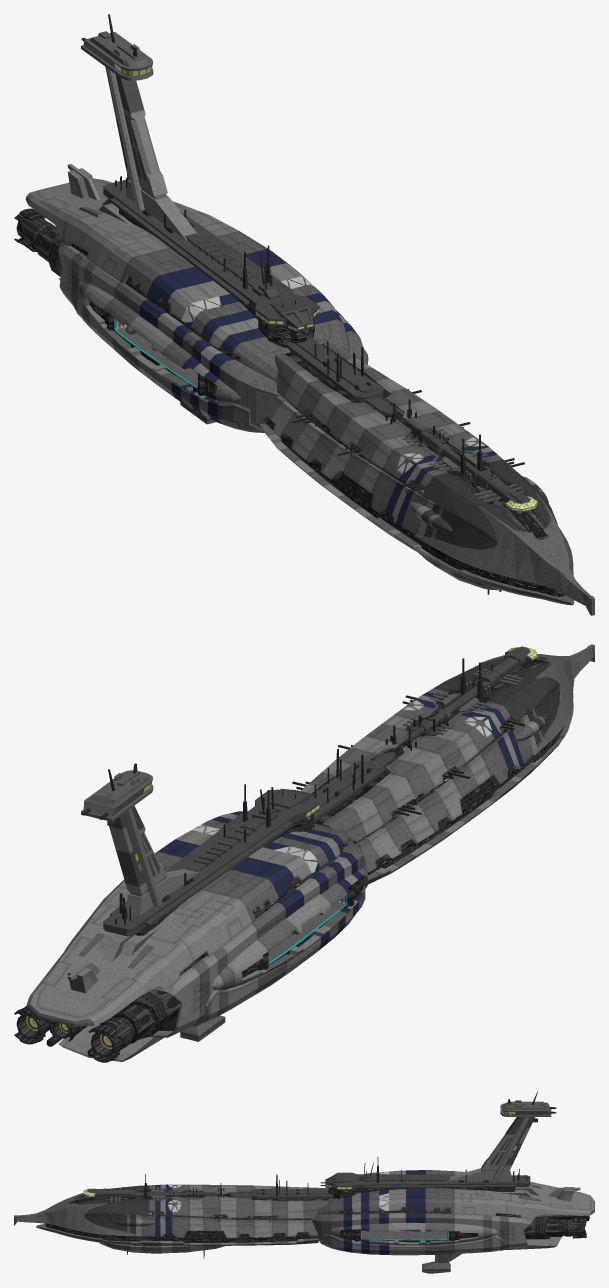
Rendered from Providence.fbx.
3 renders of one model, top to bottom at view 1: azimuth 30°, elevation 25°; view 2: azimuth 150°, elevation 25°; view 3: azimuth 270°, elevation 25°, orthographic. The views are drawn at different scales.
Parts seen in each view (by area): view 1: mesh-0; view 2: mesh-0; view 3: mesh-0.
Part boxes in pixels (x1,y1,x2,y2): mesh-0: (14, 14, 594, 615); mesh-0: (14, 644, 594, 1062); mesh-0: (14, 1091, 594, 1273).
Bounding box in the file's own units: 1554 × 2867 × 8341.
